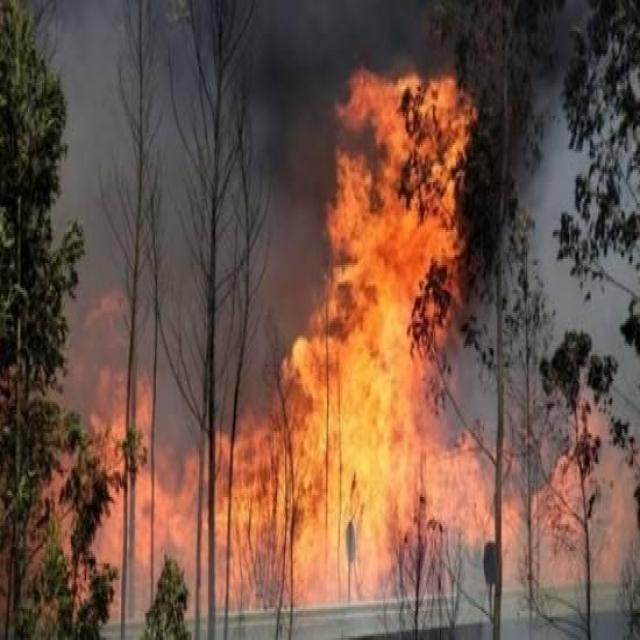fire: (70, 42, 630, 594)
